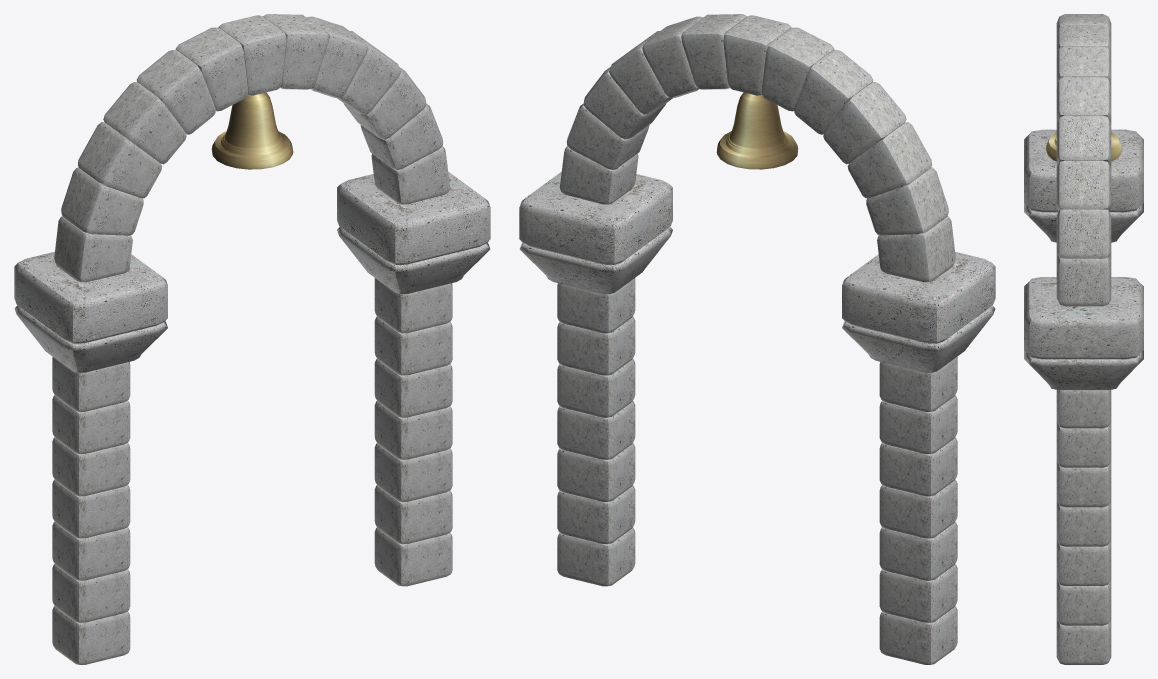
Rendered from Stone_Archway.fbx.
The picture shows the model from 3 angles, left to right: view 1: azimuth 30°, elevation 25°; view 2: azimuth 150°, elevation 25°; view 3: azimuth 270°, elevation 25°; orthographic projection. The views are drawn at different scales.
Visible parts, largest first — view 1: polySurface7, pCube28, pCube27, pCylinder1, pCube29, pCube26, pCube9, pCube13, pCube16, pCube10, pCube11, pCube5 (+8 smaller); view 2: polySurface7, pCube28, pCube27, pCylinder1, pCube29, pCube26, pCube9, pCube13, pCube16, pCube10, pCube11, pCube5 (+8 smaller); view 3: polySurface7, pCube27, pCube28, pCube26, pCube14, pCube5, pCube8, pCube10, pCube12, pCube16, pCube18, pCube29 (+1 smaller).
Boxes of the visible parts, x1=… form: polySurface7: x1=54, y1=14, x2=450, y2=282; pCube28: x1=14, y1=251, x2=167, y2=343; pCube27: x1=337, y1=172, x2=490, y2=264; pCylinder1: x1=211, y1=92, x2=293, y2=169; pCube29: x1=14, y1=305, x2=167, y2=373; pCube26: x1=337, y1=227, x2=490, y2=294; pCube9: x1=52, y1=521, x2=130, y2=580; pCube13: x1=52, y1=437, x2=130, y2=496; pCube16: x1=374, y1=316, x2=452, y2=375; pCube10: x1=374, y1=443, x2=452, y2=501; pCube11: x1=52, y1=479, x2=130, y2=538; pCube5: x1=374, y1=527, x2=452, y2=586; polySurface7: x1=559, y1=14, x2=955, y2=282; pCube28: x1=842, y1=251, x2=995, y2=343; pCube27: x1=519, y1=172, x2=672, y2=264; pCylinder1: x1=716, y1=92, x2=798, y2=169; pCube29: x1=842, y1=305, x2=995, y2=373; pCube26: x1=519, y1=227, x2=672, y2=294; pCube9: x1=879, y1=521, x2=957, y2=580; pCube13: x1=879, y1=437, x2=957, y2=496; pCube16: x1=557, y1=316, x2=635, y2=375; pCube10: x1=557, y1=443, x2=635, y2=501; pCube11: x1=879, y1=479, x2=957, y2=538; pCube5: x1=557, y1=527, x2=635, y2=586; polySurface7: x1=1056, y1=14, x2=1111, y2=306; pCube27: x1=1024, y1=277, x2=1143, y2=359; pCube28: x1=1024, y1=129, x2=1143, y2=212; pCube26: x1=1024, y1=350, x2=1143, y2=390; pCube14: x1=1056, y1=461, x2=1111, y2=507; pCube5: x1=1056, y1=618, x2=1111, y2=664; pCube8: x1=1056, y1=579, x2=1111, y2=625; pCube10: x1=1056, y1=539, x2=1111, y2=585; pCube12: x1=1056, y1=500, x2=1111, y2=546; pCube16: x1=1056, y1=421, x2=1111, y2=467; pCube18: x1=1056, y1=390, x2=1111, y2=428; pCube29: x1=1024, y1=203, x2=1143, y2=242.
Bounding box in the file's own units: 10.59 × 13.91 × 2.75.
Materials: 2 (2 with a texture image).
